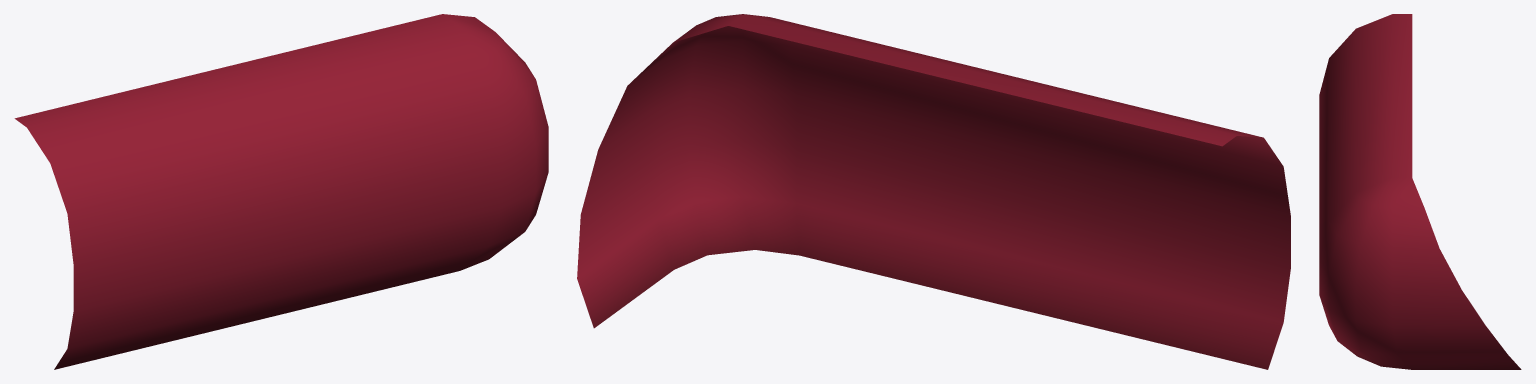
File: Surface_Corner0.fbx
3 views of the same model, side by side, from view 1: azimuth 30°, elevation 25°; view 2: azimuth 150°, elevation 25°; view 3: azimuth 270°, elevation 25° (orthographic). The views are drawn at different scales.
Visible parts, largest first — view 1: Surface_Corner; view 2: Surface_Corner; view 3: Surface_Corner.
Part boxes in pixels (x1,y1,x2,y2): Surface_Corner: (14,14,548,369); Surface_Corner: (577,14,1290,369); Surface_Corner: (1319,14,1521,369).
Bounding box in the file's own units: 2131 × 890 × 937.
